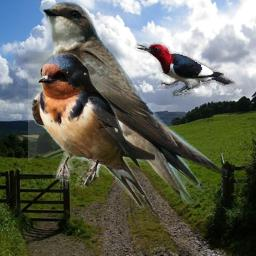Swallow: (42, 1, 227, 204), (28, 52, 155, 213)
Woodpecker: (133, 41, 236, 98)
